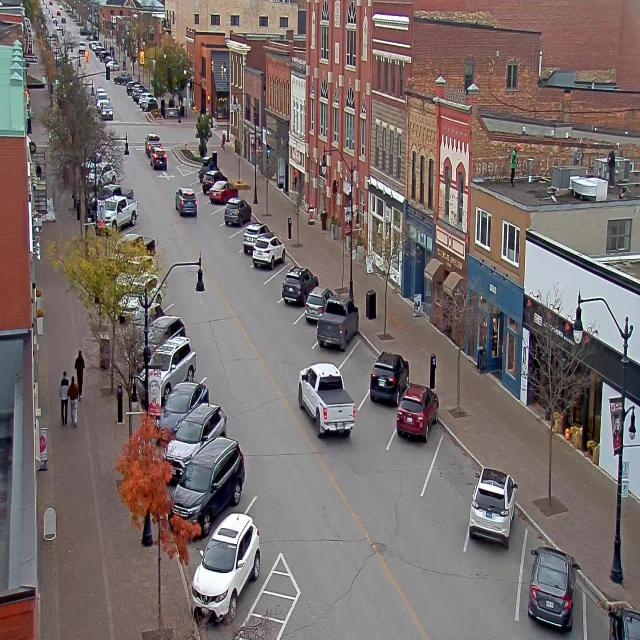available: (429, 429, 482, 512), (337, 332, 378, 394), (264, 258, 289, 297), (210, 197, 228, 230), (229, 220, 246, 250), (182, 167, 198, 186)
occupied: (195, 505, 271, 612), (169, 435, 245, 539), (527, 544, 579, 631), (468, 467, 517, 548), (154, 379, 208, 442), (161, 402, 233, 442), (150, 340, 208, 386), (316, 296, 358, 352), (368, 350, 409, 406), (399, 390, 438, 448), (594, 590, 639, 640), (282, 264, 318, 305), (252, 232, 284, 269), (224, 196, 252, 226), (208, 180, 237, 204), (305, 286, 326, 318), (200, 168, 224, 192), (244, 225, 264, 251), (198, 154, 215, 178)
